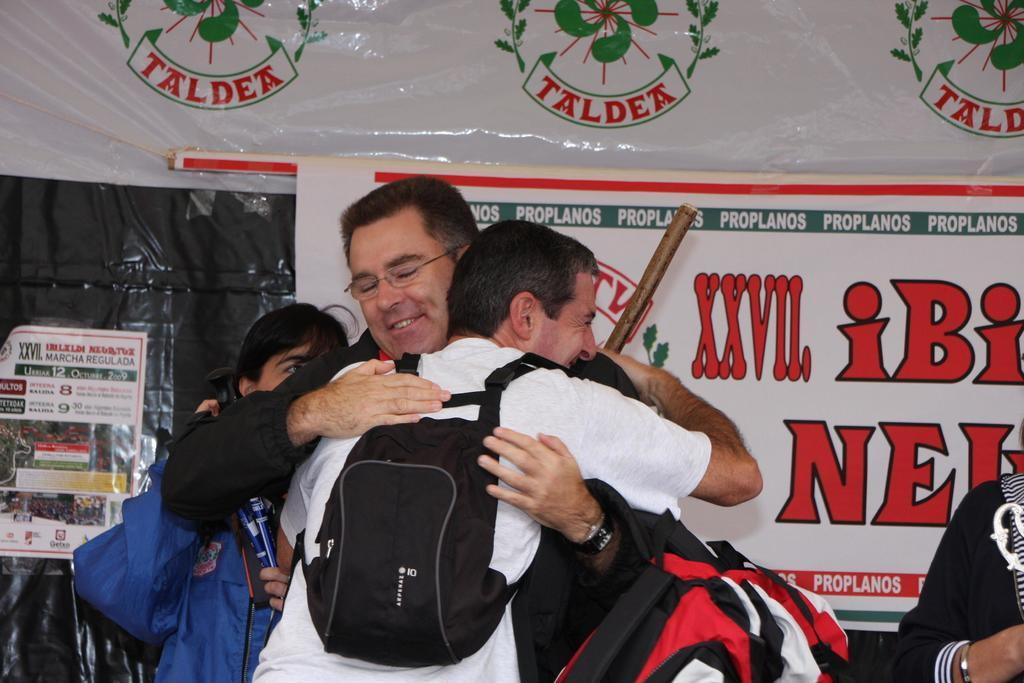Luggage-and-bags: (304, 374, 595, 650), (514, 479, 866, 682)
